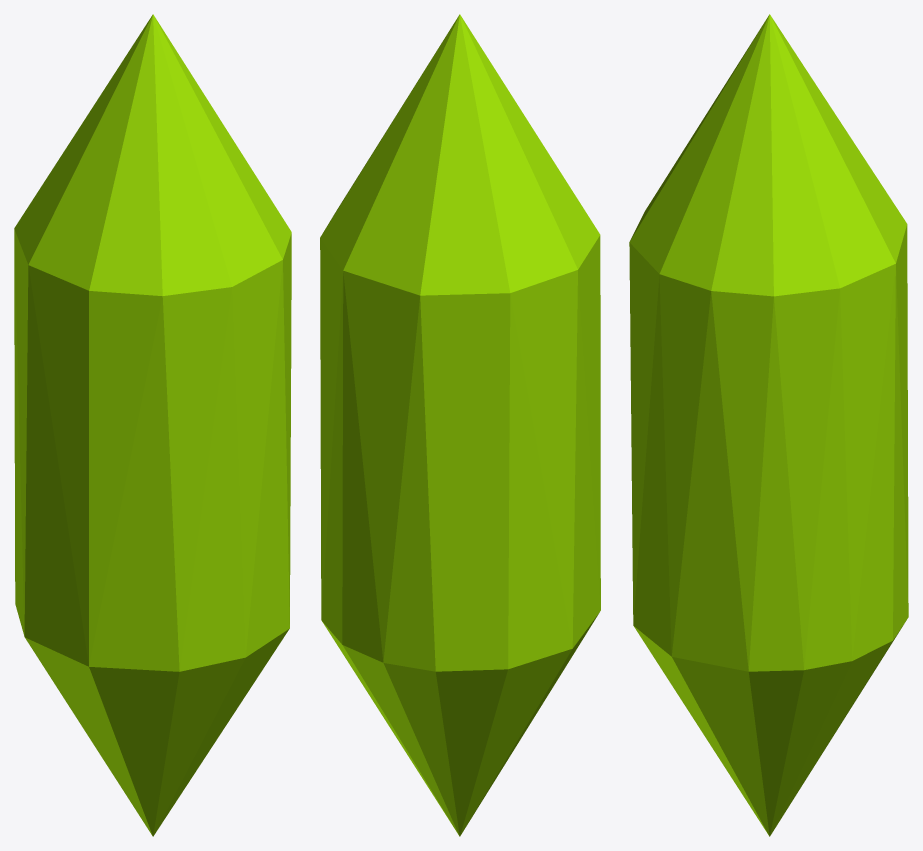
Rendered from Missile3.fbx.
3 renders of one model, left to right at view 1: azimuth 30°, elevation 25°; view 2: azimuth 150°, elevation 25°; view 3: azimuth 270°, elevation 25°, orthographic.
Visible parts, largest first — view 1: Cylinder; view 2: Cylinder; view 3: Cylinder.
Part boxes in pixels (<box>): Cylinder: <box>14,14,291,836</box>; Cylinder: <box>320,14,600,836</box>; Cylinder: <box>629,14,908,836</box>.
Bounding box in the file's own units: 202 × 657 × 202.
